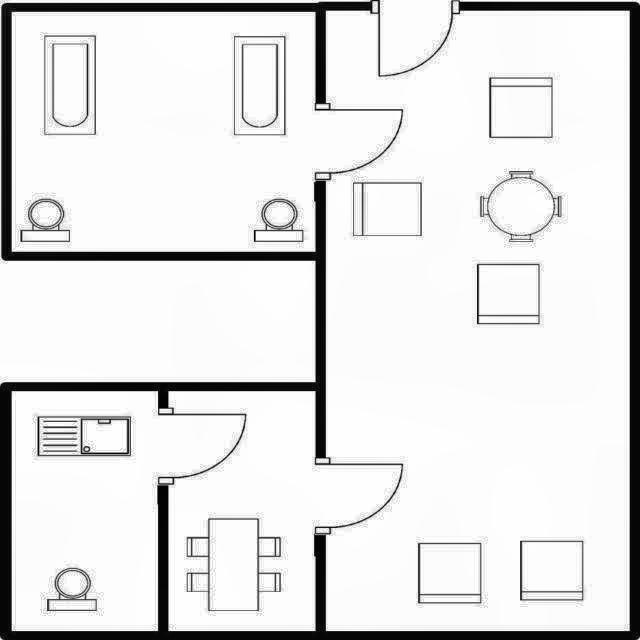room: (326, 10, 630, 631), (11, 11, 316, 252), (12, 390, 158, 632), (169, 391, 316, 631)
